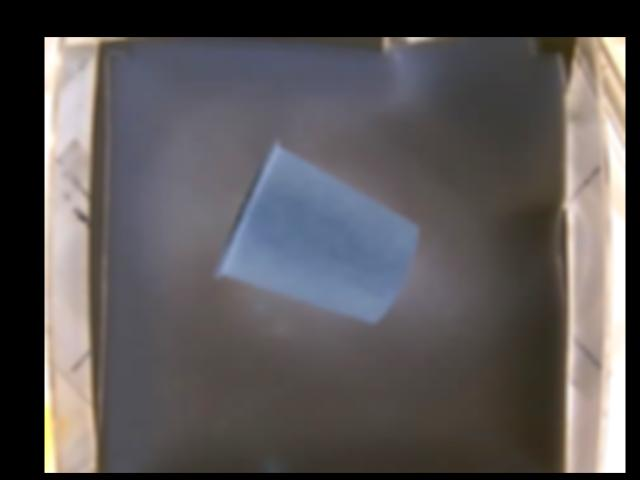Cup: (215, 142, 421, 322)
